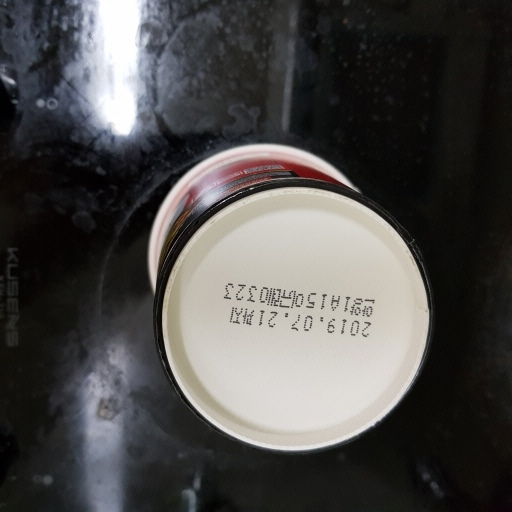Paper_1: (141, 143, 431, 451)
